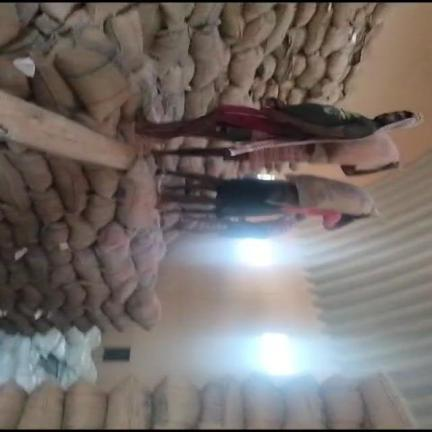Zone-Counting: (163, 171, 375, 229)
